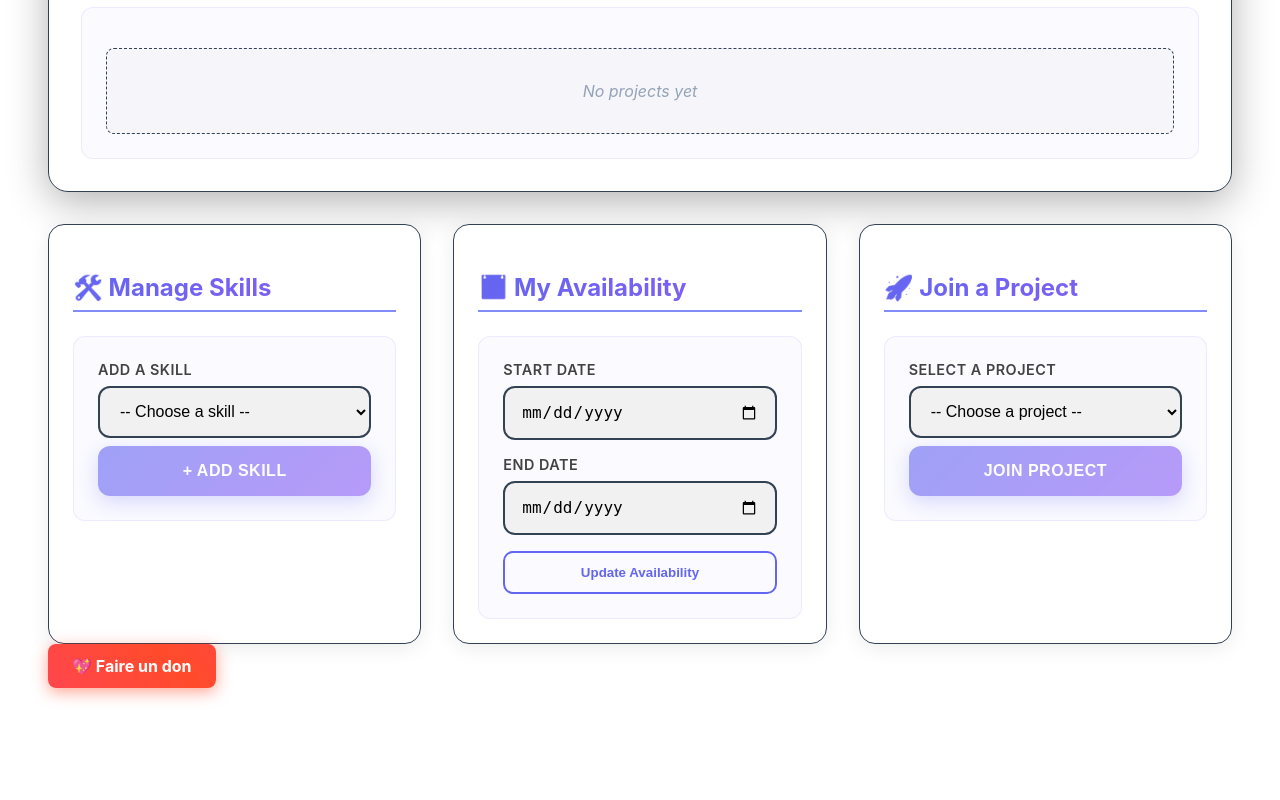
Test: Home Component - Complete Coverage › Gestion des disponibilités › met à jour les disponibilités avec succès
(page scrolled)
Type "2025-01-01" into the date field below "Start date". click: (640, 413)
box: left=503, top=386, right=777, bottom=440
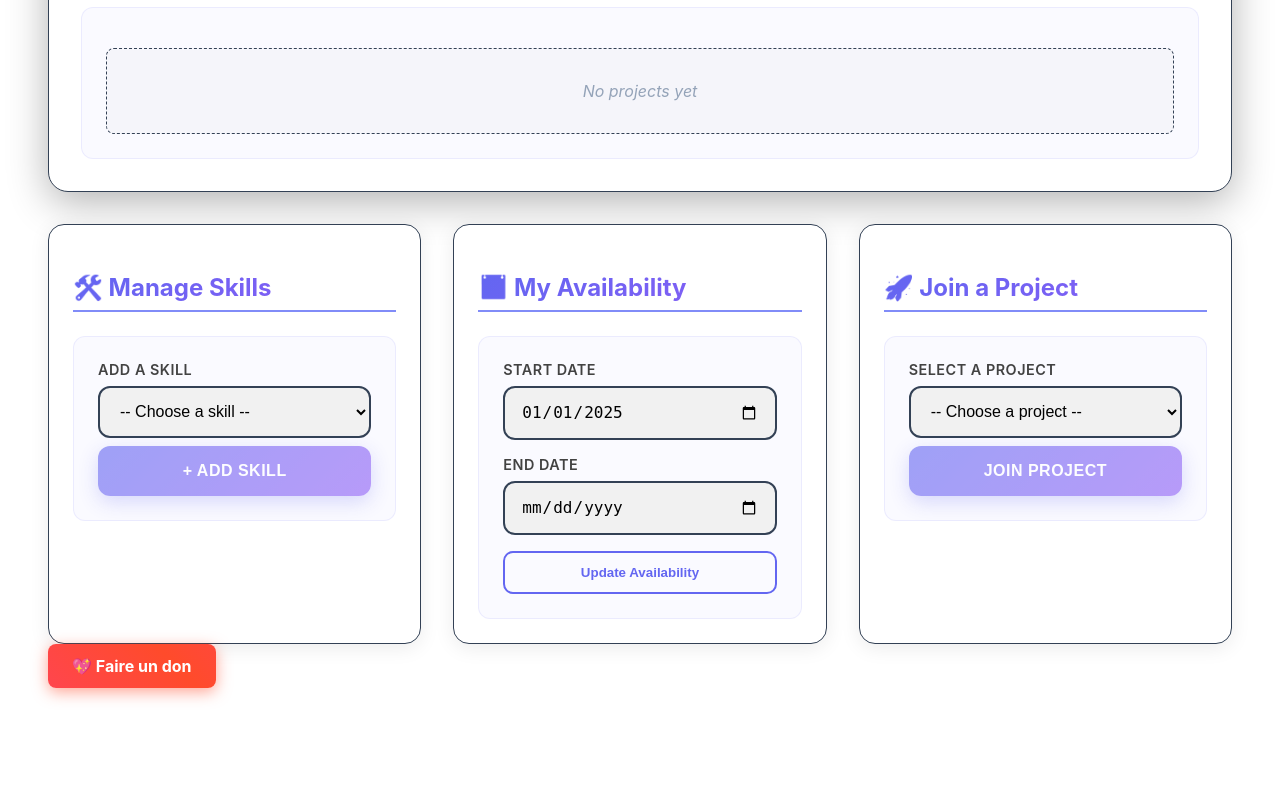
Type "2025-12-31" into the date field below "End date". click: (640, 508)
box: left=503, top=481, right=777, bottom=535
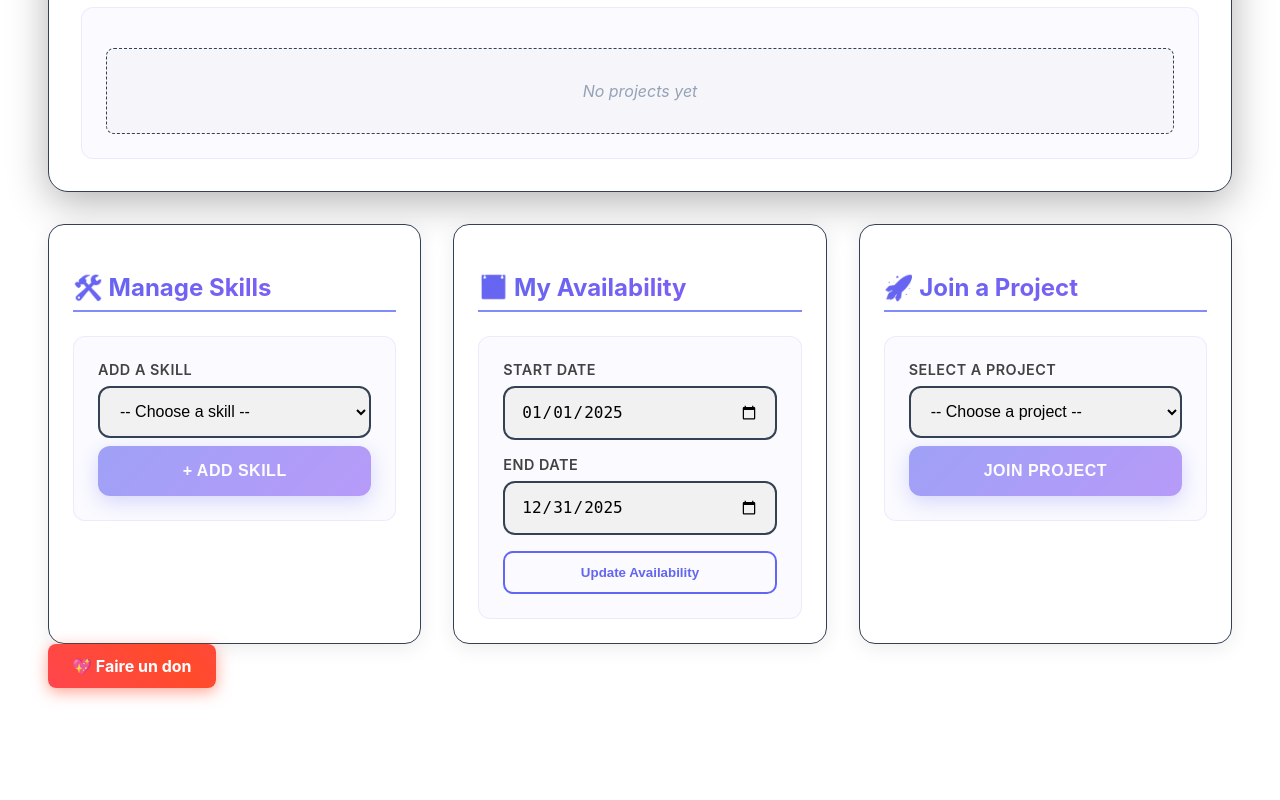
Click the button "Update Availability". click: (640, 572)
box: left=503, top=551, right=777, bottom=594
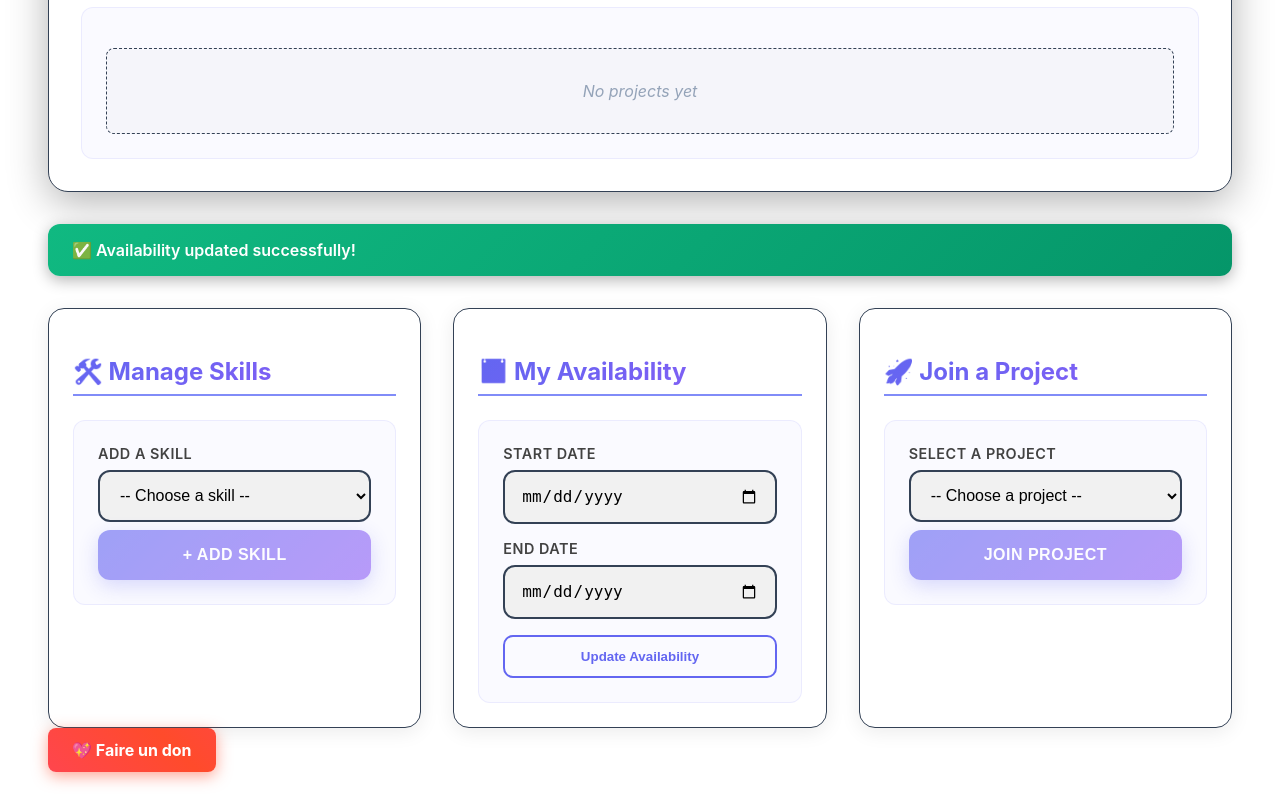
expect the text "✅ Availability updated successfully!" is shown: met, box left=48, top=224, right=1232, bottom=276
